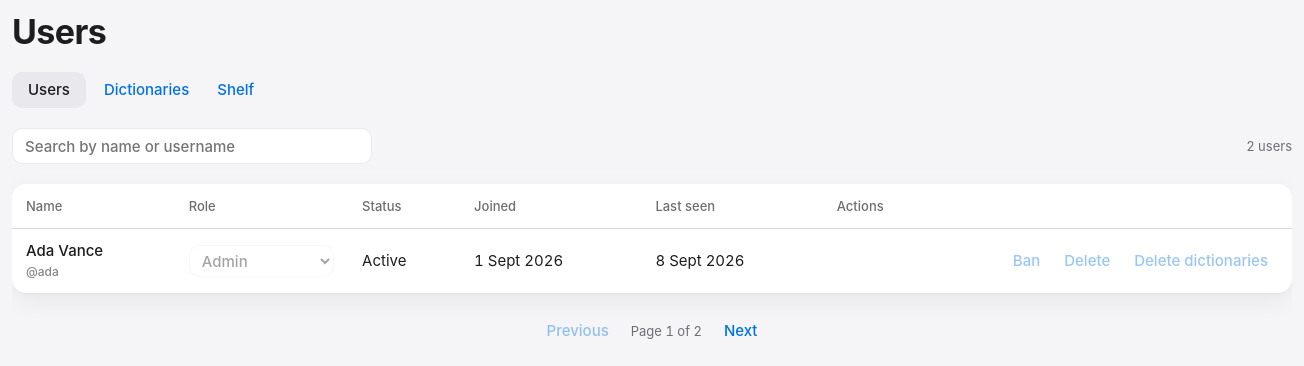
AdminScreen › moves between pages
Check: the navigation bar with class "admin-pager" shows "Page 1 of 2", box [536,313,767,349]
Check: the button "Previous" is disabled, box [536,313,619,349]
Click the button with class "next": (741, 331) [714,313,768,349]
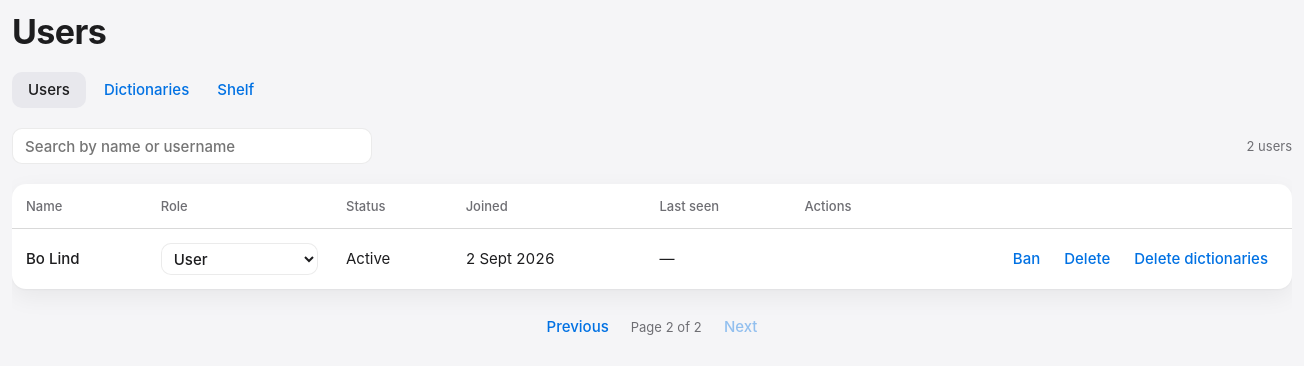
Check: the text with class "user-name" reads "Bo Lind", box [26,249,80,268]
Check: the navigation bar with class "admin-pager" shows "Page 2 of 2", box [536,309,767,345]
Check: the button with class "next" is disabled, box [714,309,768,345]
